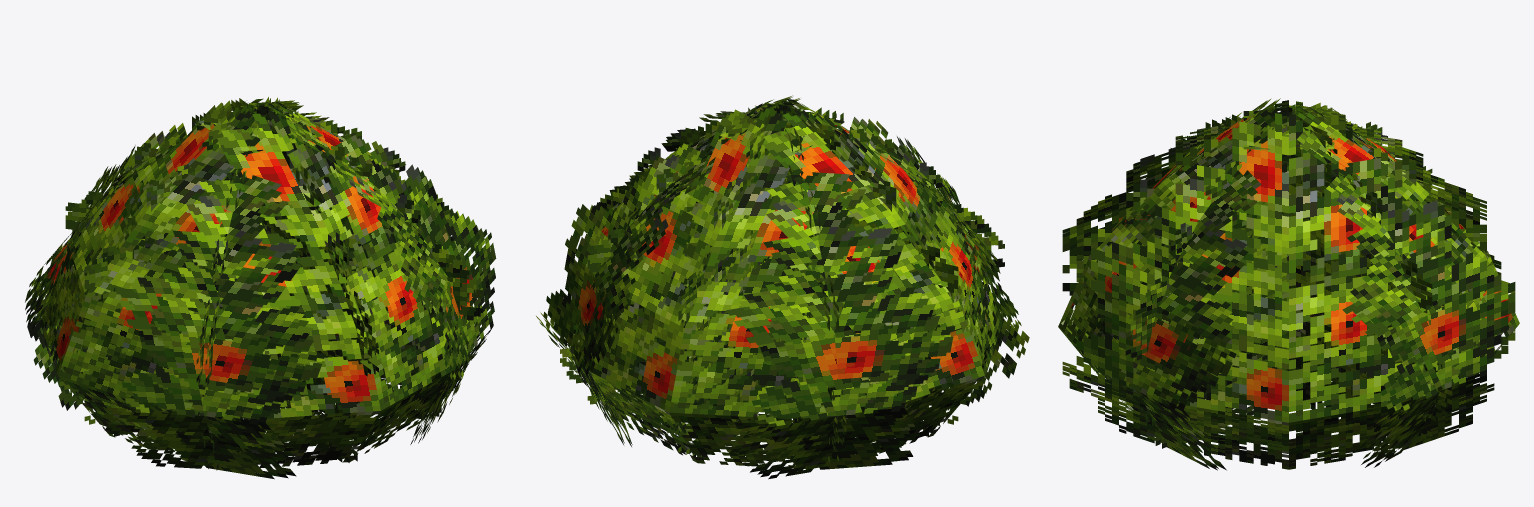
Rendered from bush02_spring2.glb.
The picture shows the model from 3 angles, left to right: view 1: azimuth 30°, elevation 25°; view 2: azimuth 150°, elevation 25°; view 3: azimuth 270°, elevation 25°; orthographic projection.
Parts seen in each view (by area): view 1: bush02; view 2: bush02; view 3: bush02.
Boxes of the visible parts, box(x1,y1,x2,y2) form: bush02: box(25, 97, 496, 479); bush02: box(536, 95, 1029, 479); bush02: box(1058, 98, 1519, 470).
Bounding box in the file's own units: 1.53 × 1.05 × 1.53.
1 material, 1 textured.
